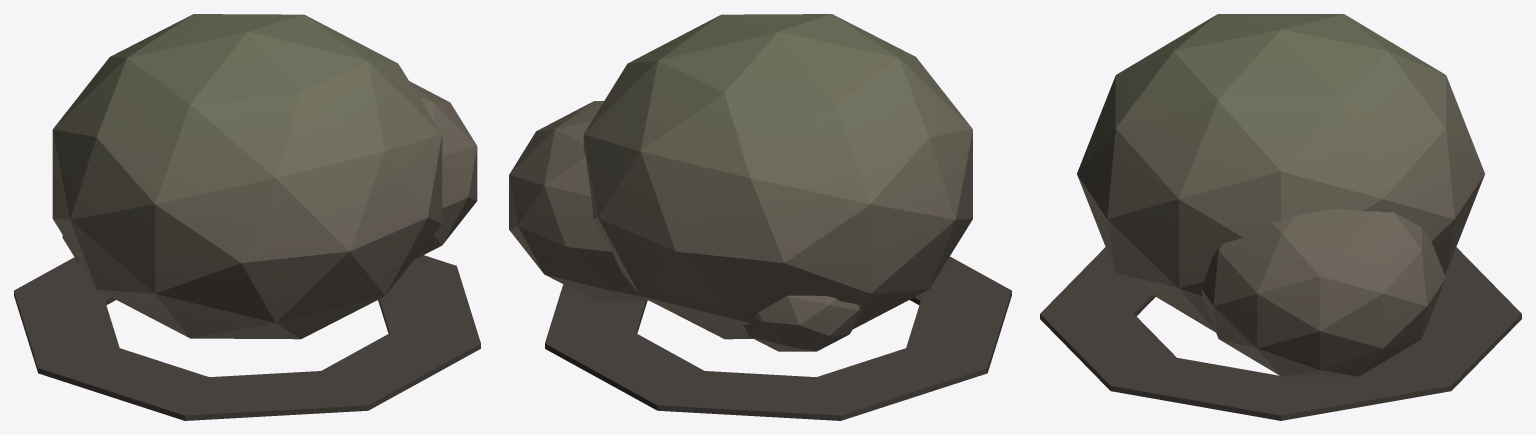
Rendered from boulder_v3.glb.
3 renders of one model, left to right at view 1: azimuth 30°, elevation 25°; view 2: azimuth 150°, elevation 25°; view 3: azimuth 270°, elevation 25°, orthographic.
Visible parts, largest first — view 1: world; view 2: world; view 3: world.
Boxes of the visible parts, <box> form: world: <box>14,14,480,420</box>; world: <box>509,14,1011,420</box>; world: <box>1040,14,1521,420</box>.
Size of the model in its own units: 1 by 0.6194 by 0.9342.
